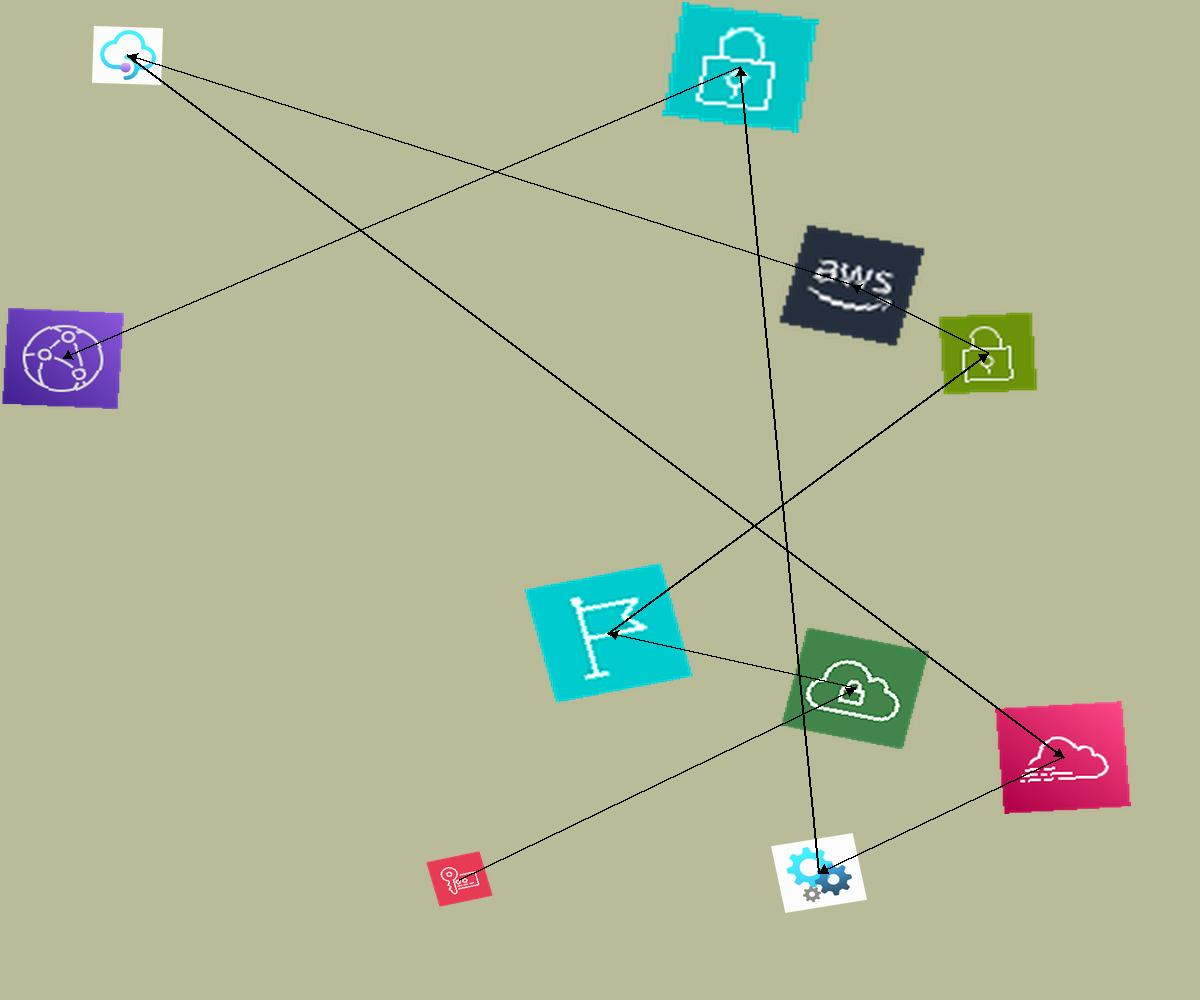AWS-Cloud-logo: (777, 223, 927, 348)
AWS-CloudFront: (1, 307, 125, 410)
AWS-CloudTrail: (995, 701, 1131, 814)
AWS-Key-Management-Service: (426, 851, 493, 907)
AWS-Private-subnet: (662, 2, 819, 133)
AWS-Private_vpc: (781, 627, 929, 750)
AWS-Public-subnet: (937, 311, 1039, 396)
AWS-Region: (523, 562, 694, 704)
Azure_api: (771, 833, 867, 913)
Azure_api_gateway: (92, 26, 163, 85)
